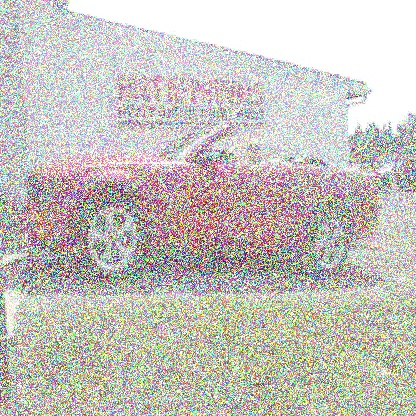Vehicle: (14, 118, 385, 289)
